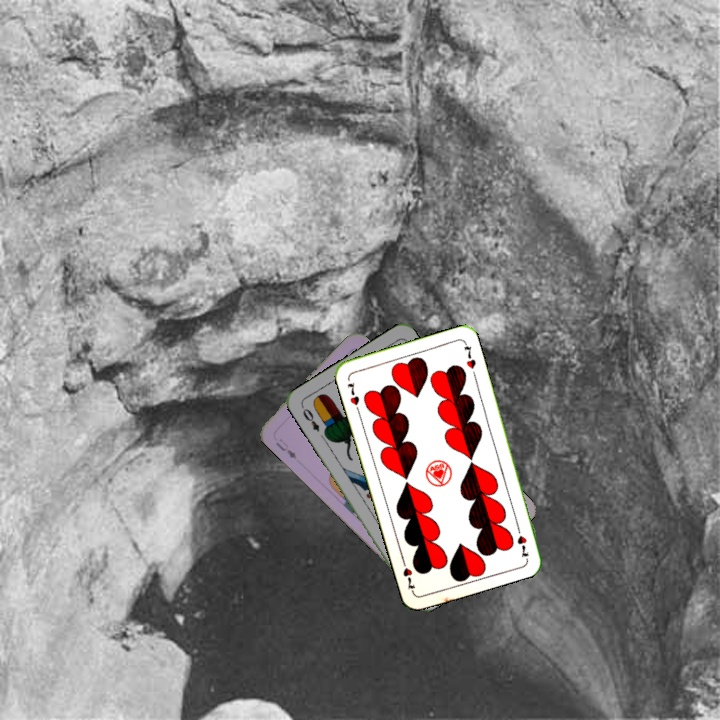EO: (297, 402, 322, 434)
EU: (272, 434, 299, 462)
H7: (343, 378, 362, 415), (513, 521, 531, 560)
